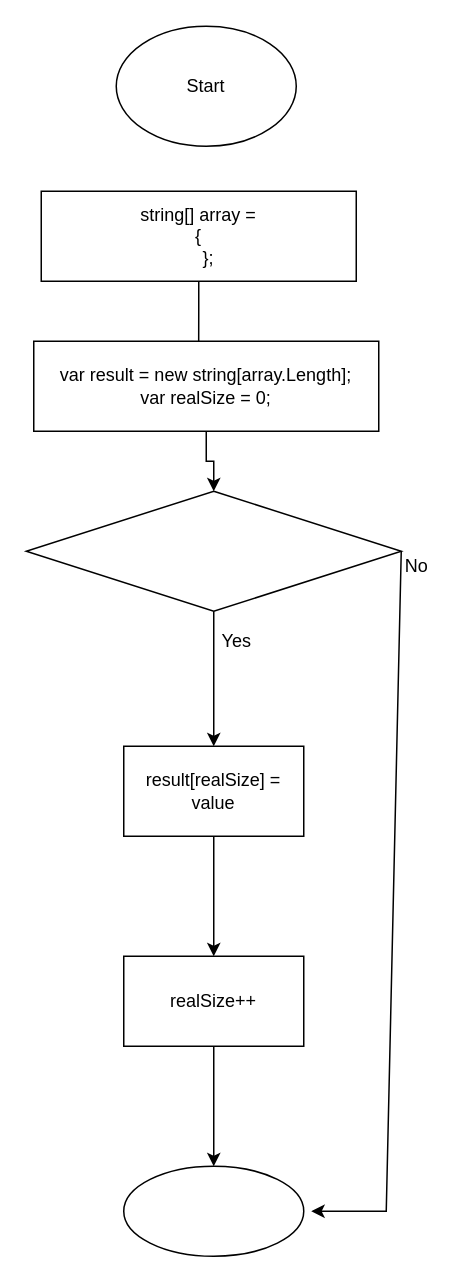
The diagram is 473 pixels wide and 1283 high, and some of its shapes have lost their labels. Here are the shapes that lost their labels. From the top down, the centre of each, then its label:
At point 213,550: "value.Length <= 3".
At point 213,1210: "Finish".
